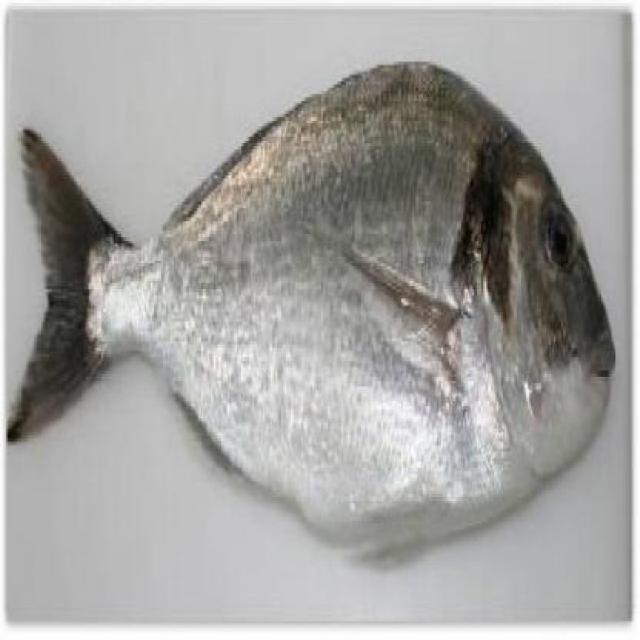Healthy Fish: (2, 56, 624, 566)
